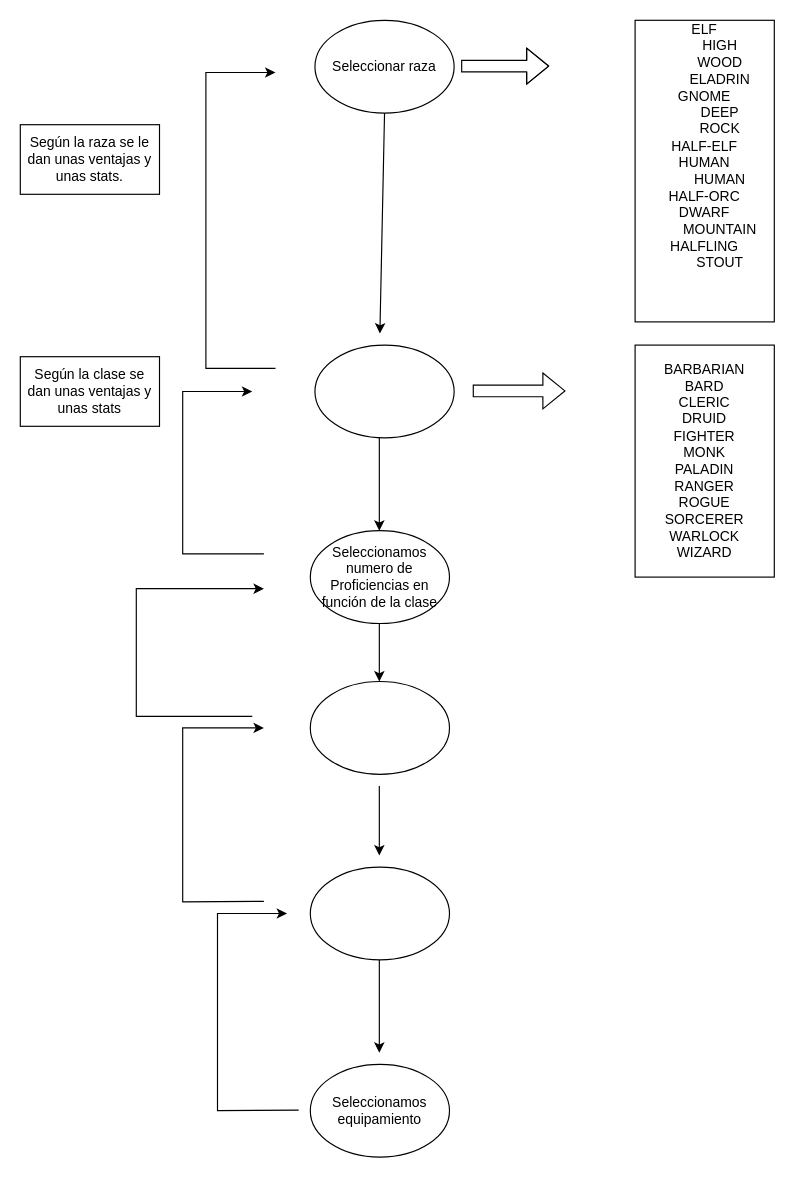
Some shapes in this 795 by 1177 pixel diagram are drawn without their labels. Each missing label, with the box of its shape:
Custom background: (309, 866, 449, 960)
Seleccionar Ability Scores: (309, 680, 449, 774)
Seleccionar clase: (314, 344, 454, 438)
